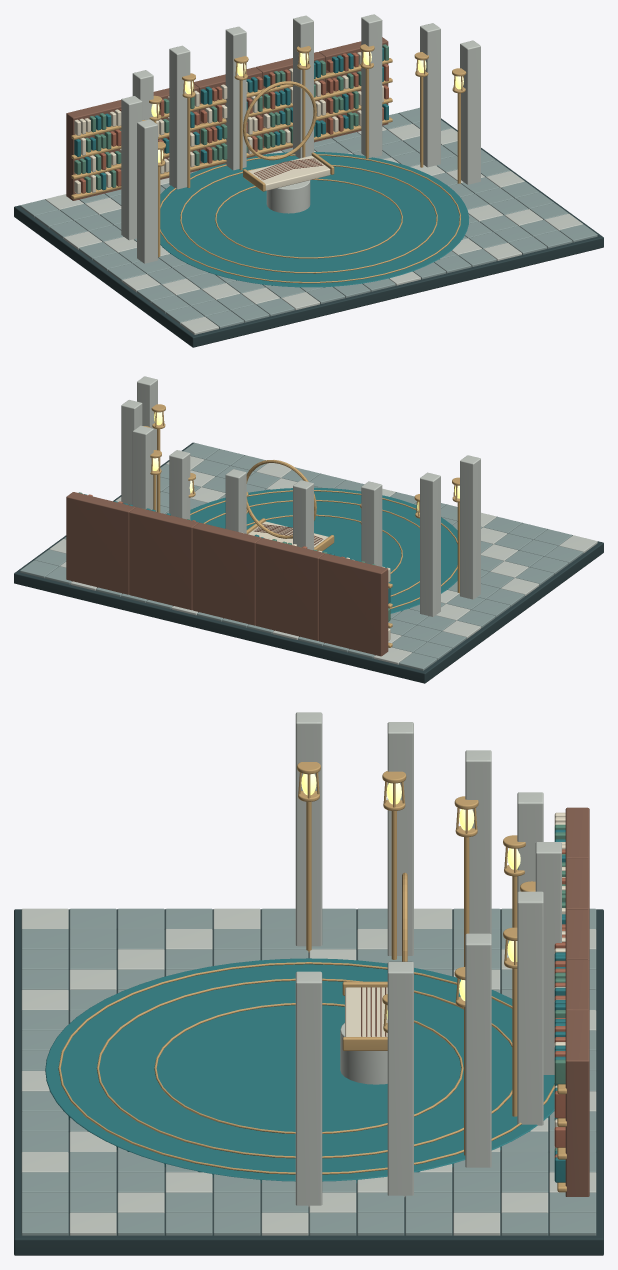
The model's file is boss.glb.
The picture shows the model from 3 angles, top to bottom: view 1: azimuth 30°, elevation 25°; view 2: azimuth 150°, elevation 25°; view 3: azimuth 270°, elevation 25°; orthographic projection. The views are drawn at different scales.
Parts seen in each view (by area): view 1: Static_3_Enamel teal.005, Static_1_Carved pale stone.004, Static_2_Salt limestone.004, Static_4_Aged brass.005, Static_0_Ink iron.004, Static_6_Walnut.004, Static_7_Archive paper.004, Static_9_Botanical green.004, Static_8_Oxide leather.005, Static_5_Lantern warm glass.004; view 2: Static_6_Walnut.004, Static_1_Carved pale stone.004, Static_2_Salt limestone.004, Static_3_Enamel teal.005, Static_0_Ink iron.004, Static_4_Aged brass.005, Static_7_Archive paper.004; view 3: Static_1_Carved pale stone.004, Static_3_Enamel teal.005, Static_2_Salt limestone.004, Static_0_Ink iron.004, Static_4_Aged brass.005, Static_6_Walnut.004, Static_7_Archive paper.004, Static_5_Lantern warm glass.004, Static_8_Oxide leather.005, Static_9_Botanical green.004.
Boxes of the visible parts, left/top/right/bottom form: Static_3_Enamel teal.005: left=74, top=47, right=469, bottom=287; Static_1_Carved pale stone.004: left=45, top=14, right=582, bottom=334; Static_2_Salt limestone.004: left=20, top=107, right=597, bottom=328; Static_4_Aged brass.005: left=71, top=44, right=466, bottom=283; Static_0_Ink iron.004: left=14, top=113, right=603, bottom=347; Static_6_Walnut.004: left=66, top=37, right=388, bottom=200; Static_7_Archive paper.004: left=74, top=52, right=383, bottom=193; Static_9_Botanical green.004: left=74, top=44, right=388, bottom=192; Static_8_Oxide leather.005: left=79, top=52, right=388, bottom=193; Static_5_Lantern warm glass.004: left=151, top=52, right=463, bottom=162; Static_6_Walnut.004: left=66, top=492, right=388, bottom=656; Static_1_Carved pale stone.004: left=49, top=376, right=597, bottom=664; Static_2_Salt limestone.004: left=20, top=443, right=583, bottom=670; Static_3_Enamel teal.005: left=84, top=487, right=457, bottom=613; Static_0_Ink iron.004: left=14, top=442, right=603, bottom=683; Static_4_Aged brass.005: left=143, top=404, right=459, bottom=647; Static_7_Archive paper.004: left=242, top=521, right=390, bottom=640; Static_1_Carved pale stone.004: left=21, top=712, right=596, bottom=1235; Static_3_Enamel teal.005: left=45, top=829, right=565, bottom=1183; Static_2_Salt limestone.004: left=21, top=908, right=596, bottom=1235; Static_0_Ink iron.004: left=14, top=909, right=603, bottom=1255; Static_4_Aged brass.005: left=58, top=762, right=566, bottom=1192; Static_6_Walnut.004: left=361, top=807, right=589, bottom=1196; Static_7_Archive paper.004: left=345, top=812, right=565, bottom=1148; Static_5_Lantern warm glass.004: left=301, top=773, right=520, bottom=1019; Static_8_Oxide leather.005: left=554, top=849, right=565, bottom=1158; Static_9_Botanical green.004: left=554, top=824, right=565, bottom=1151.
Size of the model in its own units: 16.3 by 5.62 by 12.3.
